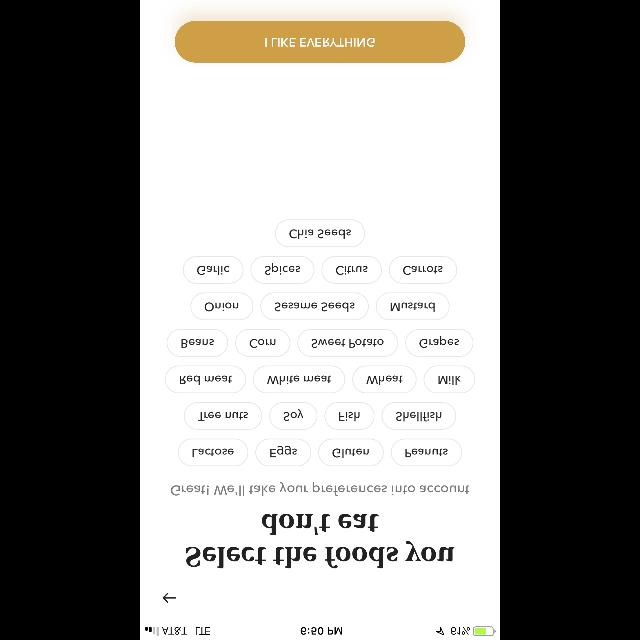icon: (164, 593, 176, 603)
text: (186, 514, 454, 568), (171, 482, 469, 496)
textbutton: (175, 21, 465, 63), (260, 292, 368, 320), (297, 329, 398, 357), (274, 219, 366, 247), (253, 365, 345, 393), (166, 365, 247, 393), (184, 402, 262, 430), (376, 292, 450, 320), (382, 402, 456, 430), (391, 438, 462, 466), (178, 438, 248, 466), (389, 256, 457, 284), (405, 329, 473, 357), (318, 438, 384, 466), (250, 256, 314, 284), (352, 365, 416, 393), (190, 292, 253, 320), (182, 256, 244, 284), (167, 329, 229, 357), (322, 256, 382, 284), (256, 438, 312, 466), (236, 329, 290, 357), (423, 365, 475, 393), (325, 402, 375, 430), (269, 402, 317, 430)
uppertaskbar: (140, 626, 500, 640)
